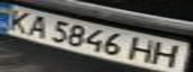4: (84, 26, 106, 54)
5: (45, 17, 72, 44)
6: (103, 30, 127, 59)
8: (63, 21, 87, 48)
A: (21, 12, 54, 39)
H: (151, 39, 187, 70), (127, 35, 160, 63)
K: (0, 7, 36, 34)
